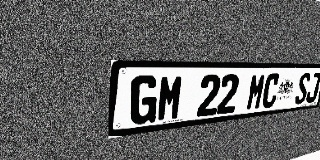2: (197, 74, 222, 117), (217, 74, 240, 114)
C: (261, 73, 281, 109)
G: (129, 75, 159, 126)
J: (305, 73, 320, 103)
M: (156, 75, 184, 122), (245, 73, 267, 111)
S: (294, 73, 312, 105)
